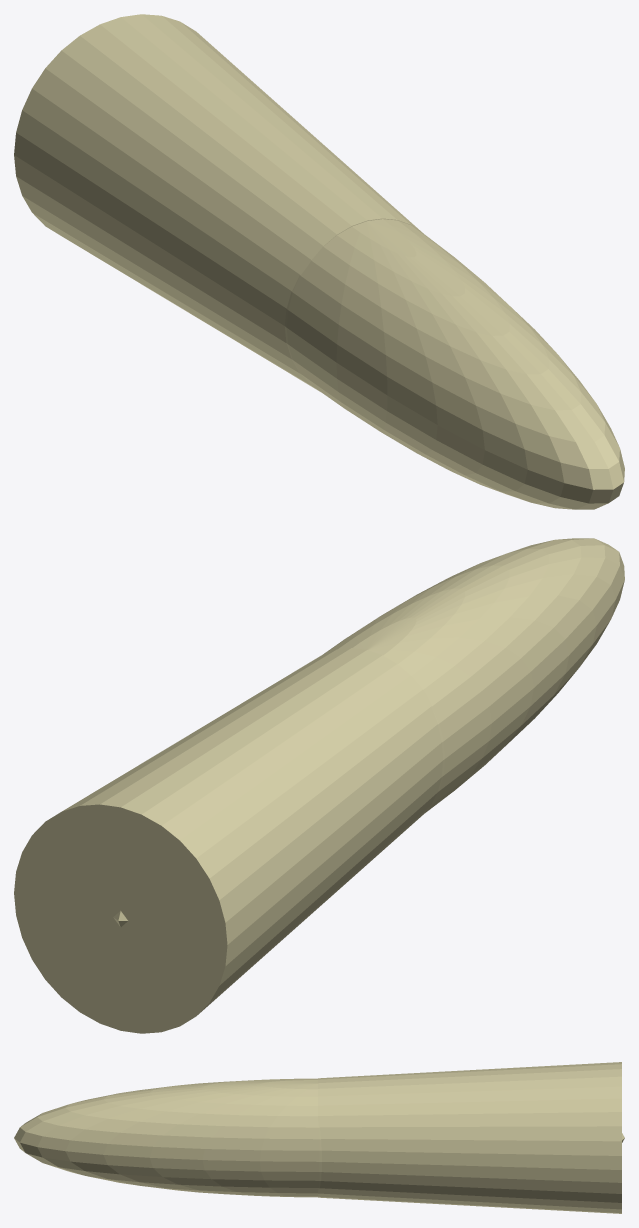
File: tama.fbx
The picture shows the model from 3 angles, top to bottom: view 1: azimuth 30°, elevation 25°; view 2: azimuth 150°, elevation 25°; view 3: azimuth 270°, elevation 25°; orthographic projection. The views are drawn at different scales.
Visible parts, largest first — view 1: Cylinder; view 2: Cylinder; view 3: Cylinder.
Boxes of the visible parts, left/top/right/bottom form: Cylinder: left=14, top=14, right=624, bottom=509; Cylinder: left=14, top=538, right=624, bottom=1033; Cylinder: left=14, top=1062, right=624, bottom=1213.
Size of the model in its own units: 20 by 20 by 80.33.
